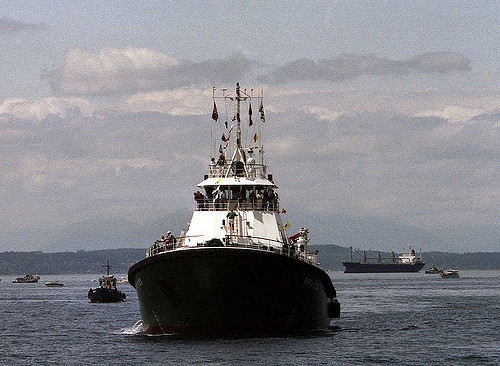bulk carrier: (342, 246, 422, 278)
tug_boat: (128, 81, 343, 348), (83, 273, 126, 310)
